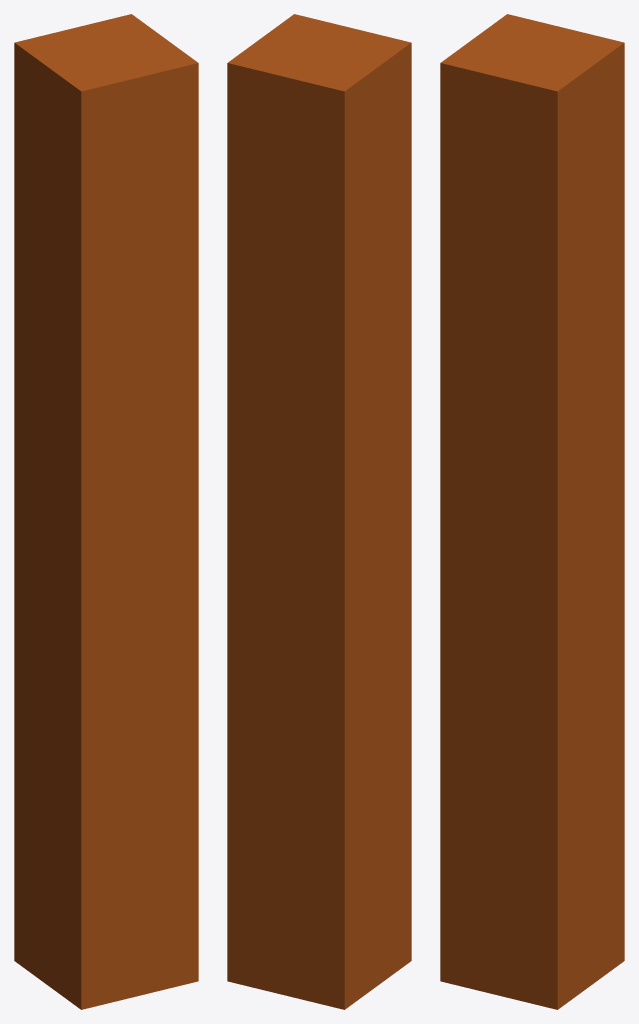
File: logpilestake_broken.DAE
3 views of the same model, side by side, from view 1: azimuth 30°, elevation 25°; view 2: azimuth 150°, elevation 25°; view 3: azimuth 330°, elevation 25° (orthographic).
Parts seen in each view (by area): view 1: bounds; view 2: bounds; view 3: bounds.
Boxes of the visible parts, x1,y1,x2,y2 form: bounds: [14, 14, 198, 1009]; bounds: [227, 14, 411, 1009]; bounds: [440, 14, 624, 1009].
Size of the model in its own units: 0.5095 by 0.5035 by 3.82.
